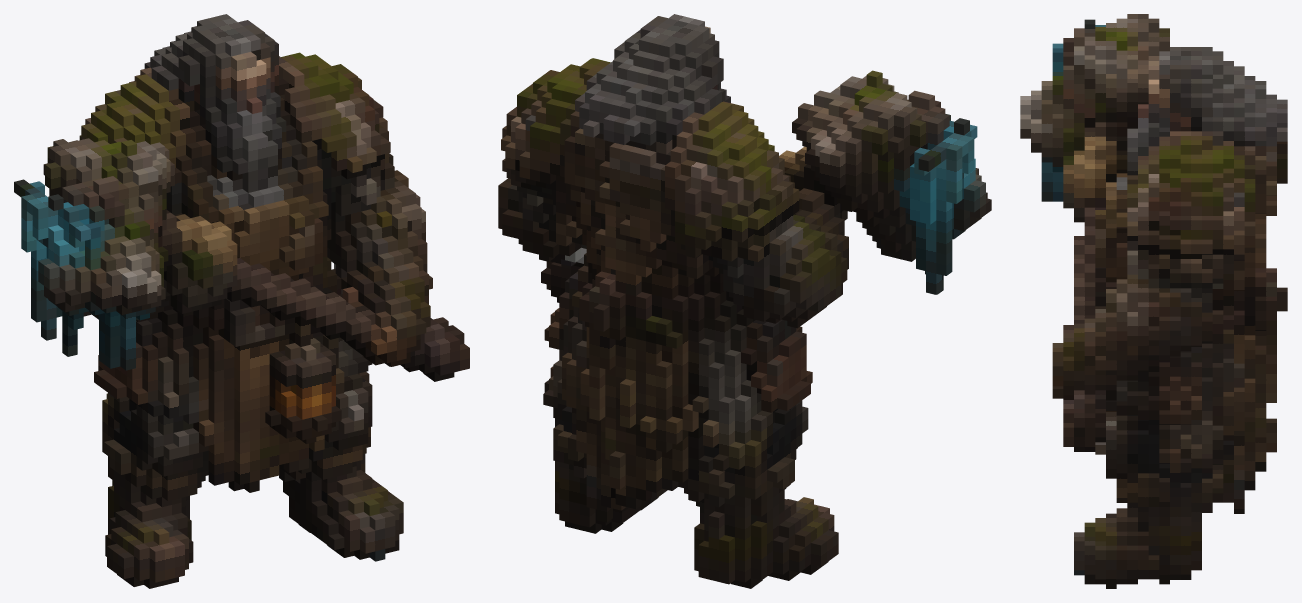
The model's file is u_grelin.glb.
3 renders of one model, left to right at view 1: azimuth 30°, elevation 25°; view 2: azimuth 150°, elevation 25°; view 3: azimuth 270°, elevation 25°, orthographic. The views are drawn at different scales.
Visible parts, largest first — view 1: grelin_body; view 2: grelin_body; view 3: grelin_body.
Part boxes in pixels (x1=…): grelin_body: x1=14, y1=14, x2=469, y2=588; grelin_body: x1=498, y1=14, x2=991, y2=588; grelin_body: x1=1020, y1=14, x2=1287, y2=588.
Bounding box in the file's own units: 1.38 × 1.61 × 0.8203.
Materials: 1 (1 with a texture image).
